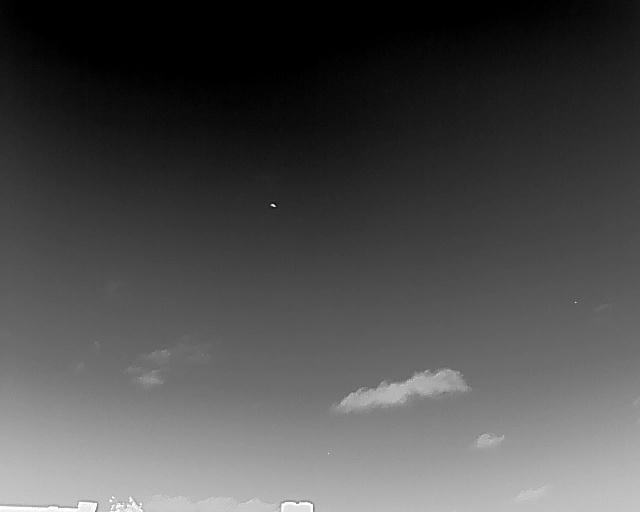fpv-drone: (269, 203, 276, 208)
